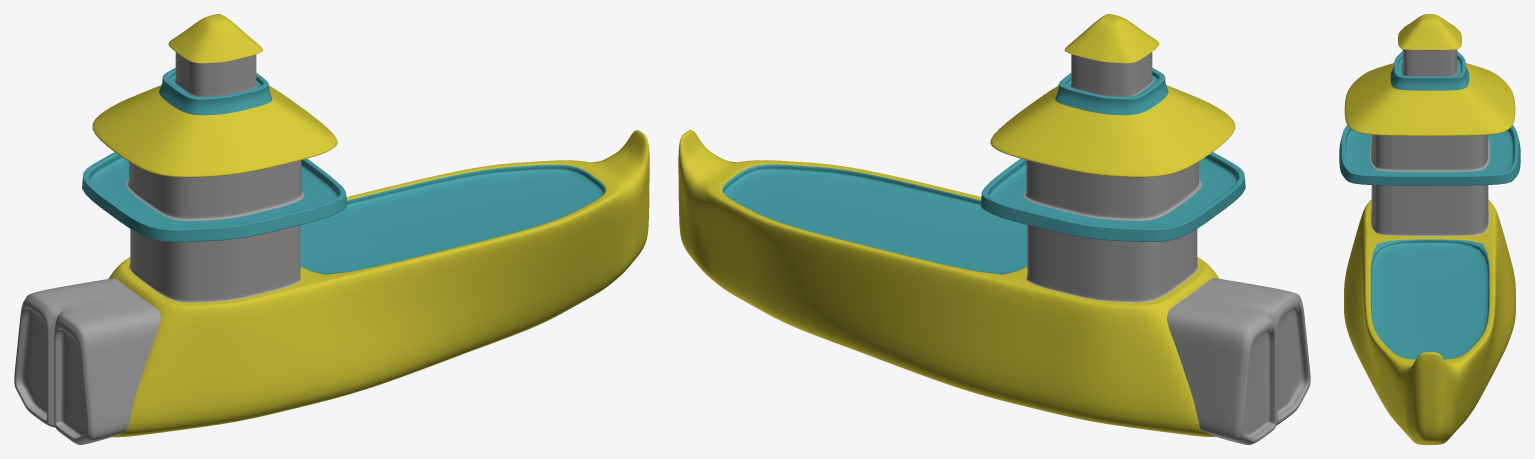
The model's file is boatlevel.fbx.
3 renders of one model, left to right at view 1: azimuth 30°, elevation 25°; view 2: azimuth 150°, elevation 25°; view 3: azimuth 270°, elevation 25°, orthographic. The views are drawn at different scales.
Parts seen in each view (by area): view 1: Cube; view 2: Cube; view 3: Cube.
Boxes of the visible parts, <box> form: Cube: <box>14,14,649,444</box>; Cube: <box>678,14,1310,444</box>; Cube: <box>1339,14,1520,444</box>.
Bounding box in the file's own units: 1190 × 715 × 399.
